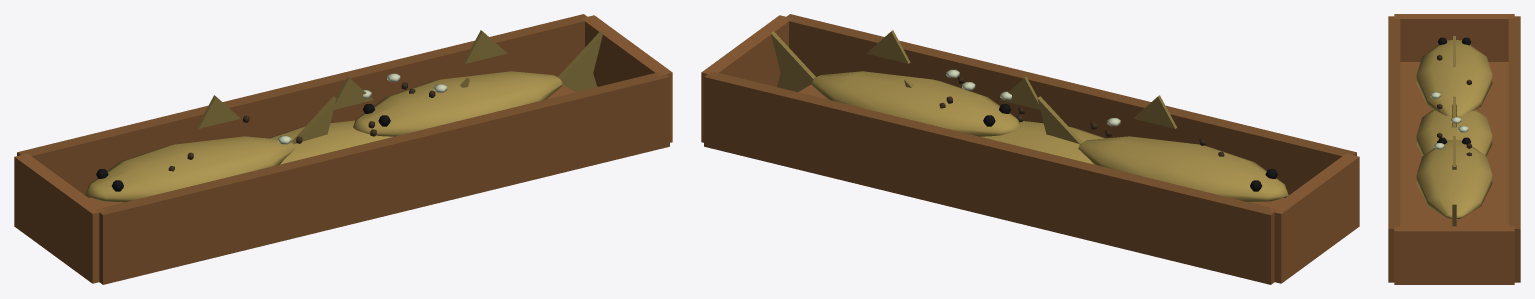
Rendered from Fish_Mandarin.fbx.
The picture shows the model from 3 angles, left to right: view 1: azimuth 30°, elevation 25°; view 2: azimuth 150°, elevation 25°; view 3: azimuth 270°, elevation 25°; orthographic projection. The views are drawn at different scales.
Visible parts, largest first — view 1: Fish_Mandarin__Stack, Fish_Mandarin, Fish_Mandarin__Rotten; view 2: Fish_Mandarin__Stack, Fish_Mandarin, Fish_Mandarin__Rotten; view 3: Fish_Mandarin__Stack, Fish_Mandarin, Fish_Mandarin__Rotten.
Boxes of the visible parts, <box> form: Fish_Mandarin__Stack: <box>14,14,672,284</box>; Fish_Mandarin: <box>268,76,469,164</box>; Fish_Mandarin__Rotten: <box>278,73,447,144</box>; Fish_Mandarin__Stack: <box>701,14,1359,284</box>; Fish_Mandarin: <box>904,76,1105,164</box>; Fish_Mandarin__Rotten: <box>946,69,1120,129</box>; Fish_Mandarin__Stack: <box>1388,14,1520,284</box>; Fish_Mandarin: <box>1416,96,1492,169</box>; Fish_Mandarin__Rotten: <box>1430,92,1468,149</box>.
Size of the model in its own units: 0.348 by 0.0688 by 0.0894.
